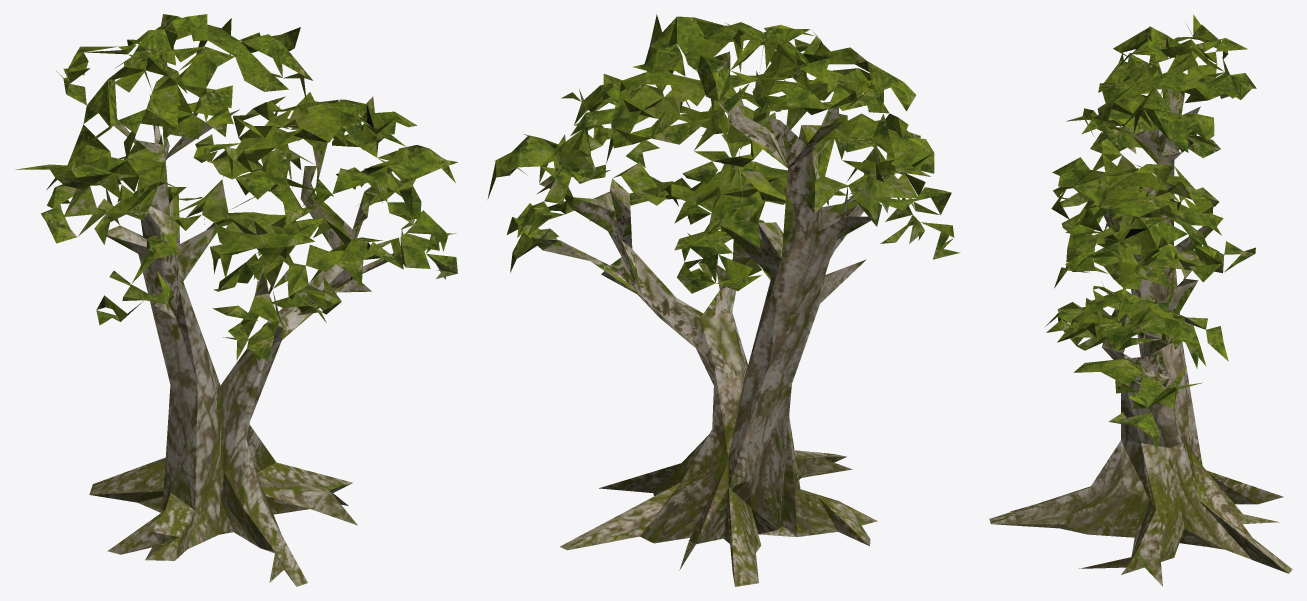
Rendered from fo_forkwood_tree.glb.
3 renders of one model, left to right at view 1: azimuth 30°, elevation 25°; view 2: azimuth 150°, elevation 25°; view 3: azimuth 270°, elevation 25°, orthographic. The views are drawn at different scales.
Visible parts, largest first — view 1: output_unwrapped; view 2: output_unwrapped; view 3: output_unwrapped.
Boxes of the visible parts, <box> form: output_unwrapped: <box>15,14,457,586</box>; output_unwrapped: <box>487,14,960,586</box>; output_unwrapped: <box>989,14,1292,586</box>.
Bounding box in the file's own units: 1.69 × 1.87 × 1.1.
Materials: 1 (1 with a texture image).
